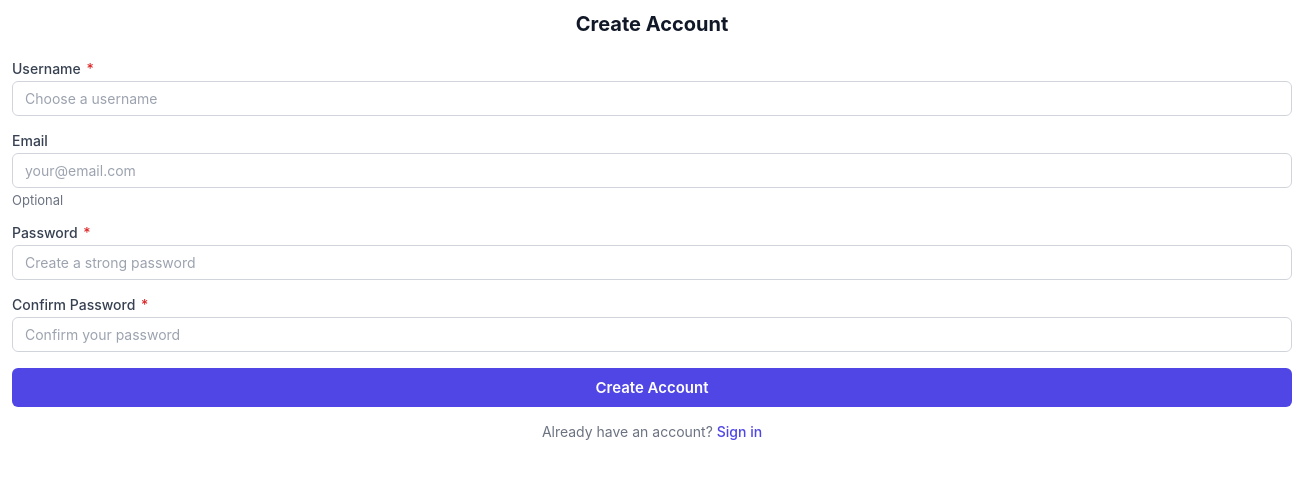
Test: SignUpPage › shows validation error for weak password
In the field with placeholder "Choose a username": x=652, y=98 [12, 81, 1292, 116], type "testuser"
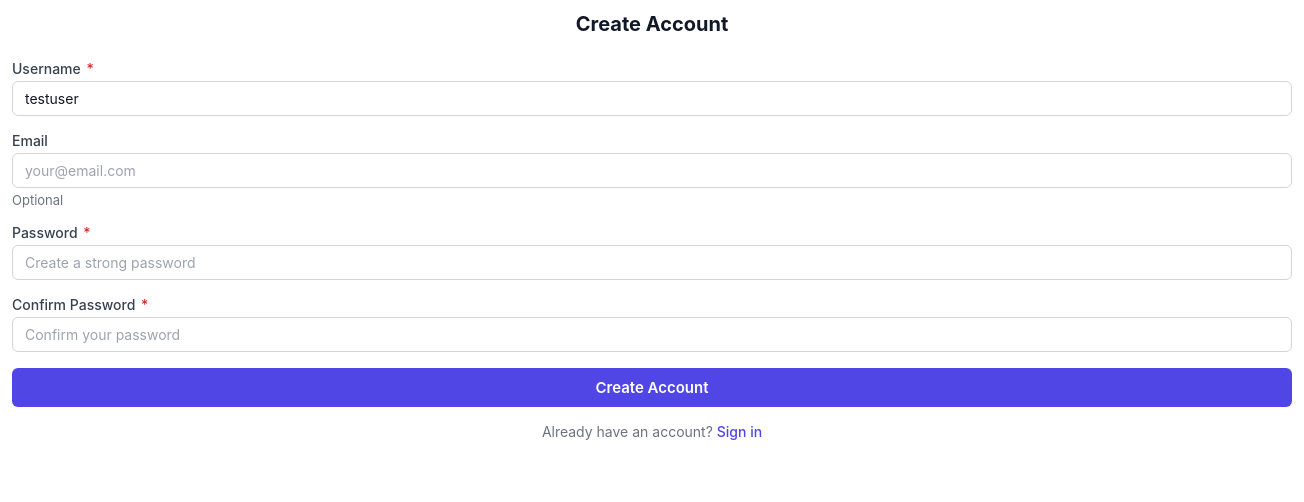
In the password field with placeholder "Create a strong password": x=652, y=262 [12, 245, 1292, 280], type "123"
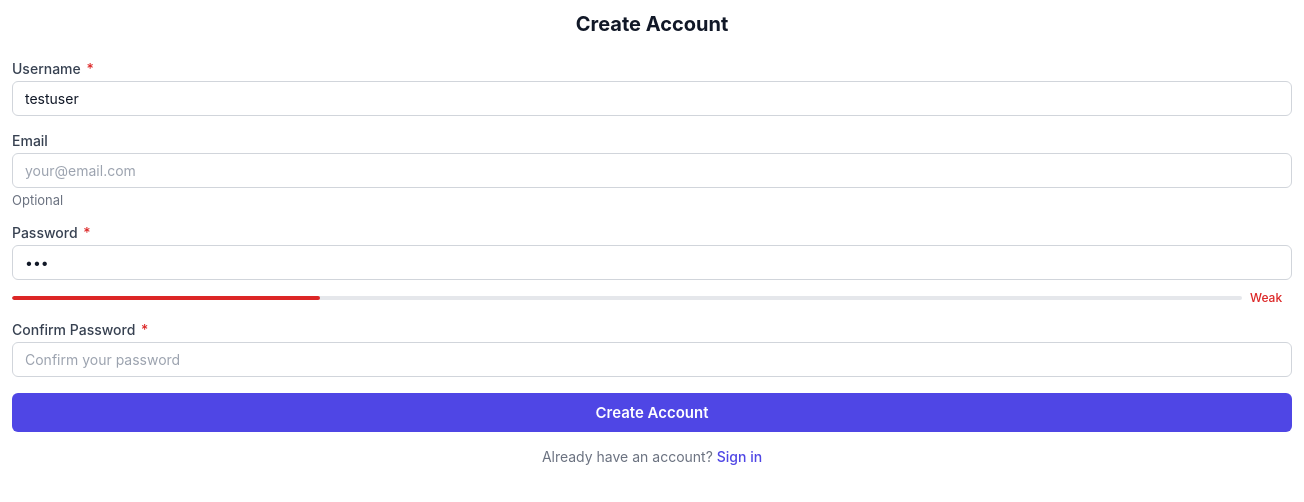
In the password field with placeholder "Confirm your password": x=652, y=360 [12, 342, 1292, 377], type "123"
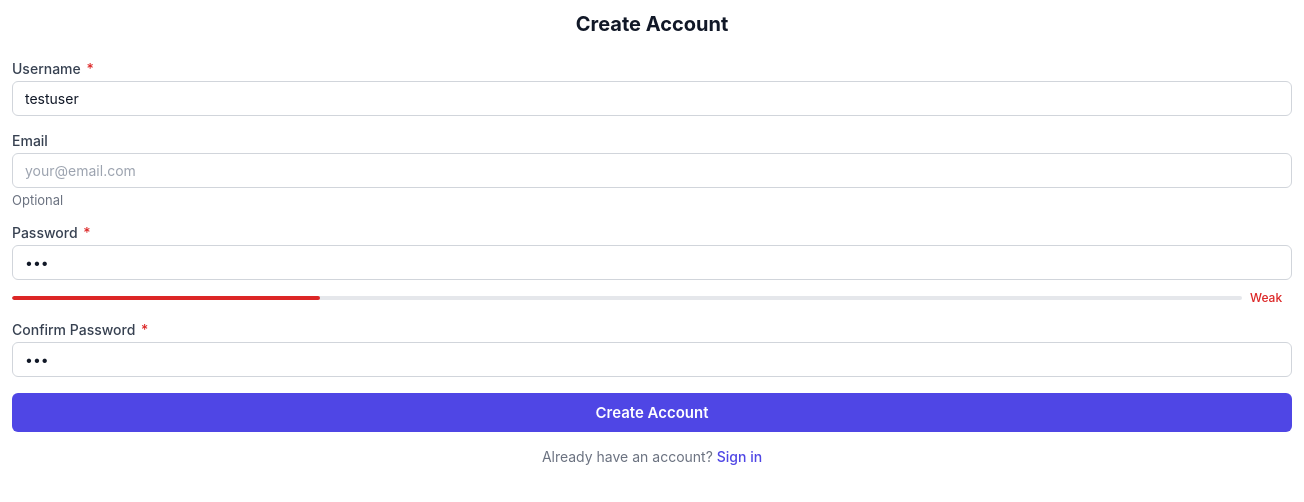
Submit the form
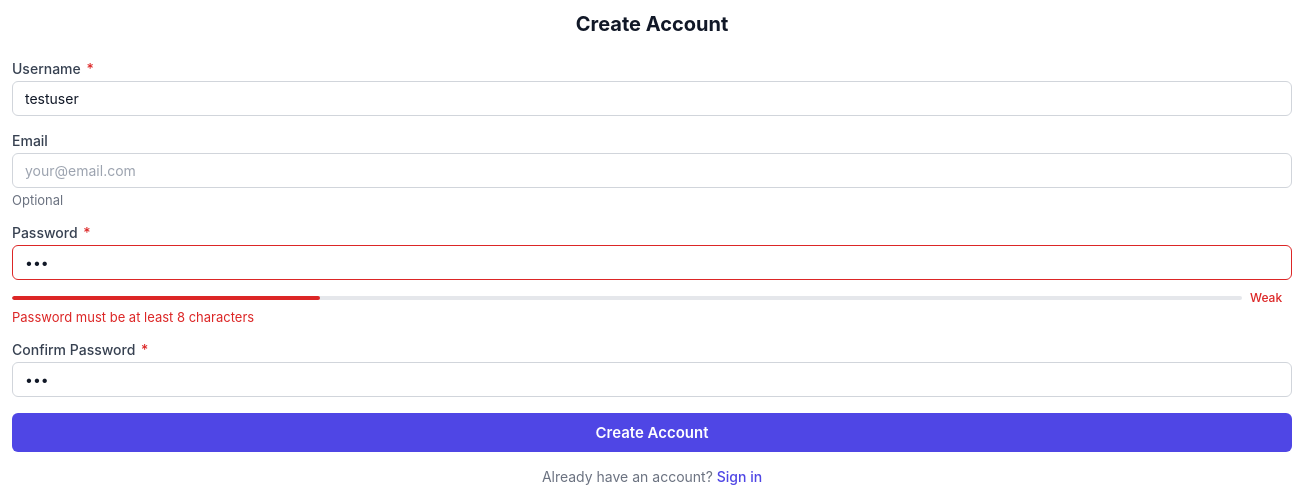
expect the text "Password must be at least 8 characters" is shown: met, box [12, 309, 254, 325]
